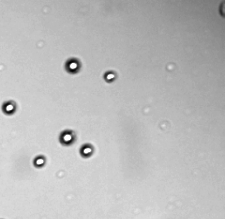Living Cell: (64, 57, 83, 74), (59, 129, 77, 146), (2, 99, 17, 116), (79, 143, 96, 158), (103, 69, 118, 83), (32, 154, 47, 168)
